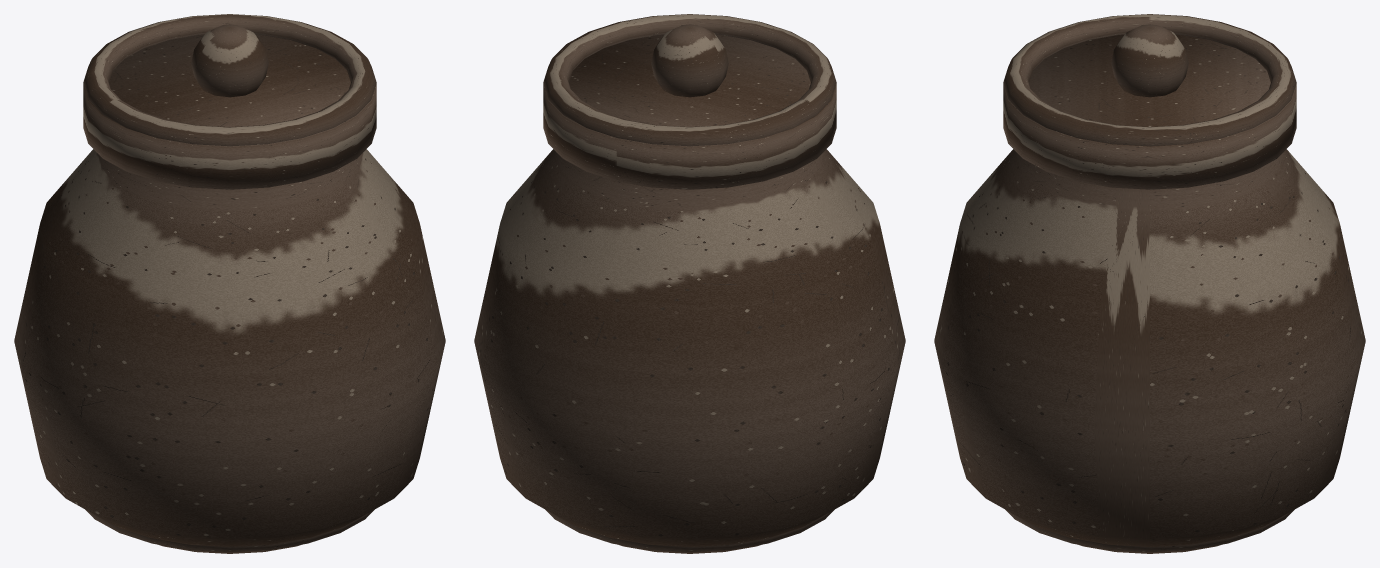
Rendered from hu-muoi-sanh.glb.
3 views of the same model, side by side, from view 1: azimuth 30°, elevation 25°; view 2: azimuth 150°, elevation 25°; view 3: azimuth 270°, elevation 25° (orthographic).
Parts seen in each view (by area): view 1: hu; view 2: hu; view 3: hu.
Part boxes in pixels (<box>): hu: <box>14,14,445,553</box>; hu: <box>474,14,905,553</box>; hu: <box>934,14,1365,553</box>.
Size of the model in its own units: 0.2 by 0.24 by 0.2.
1 material, 1 textured.
